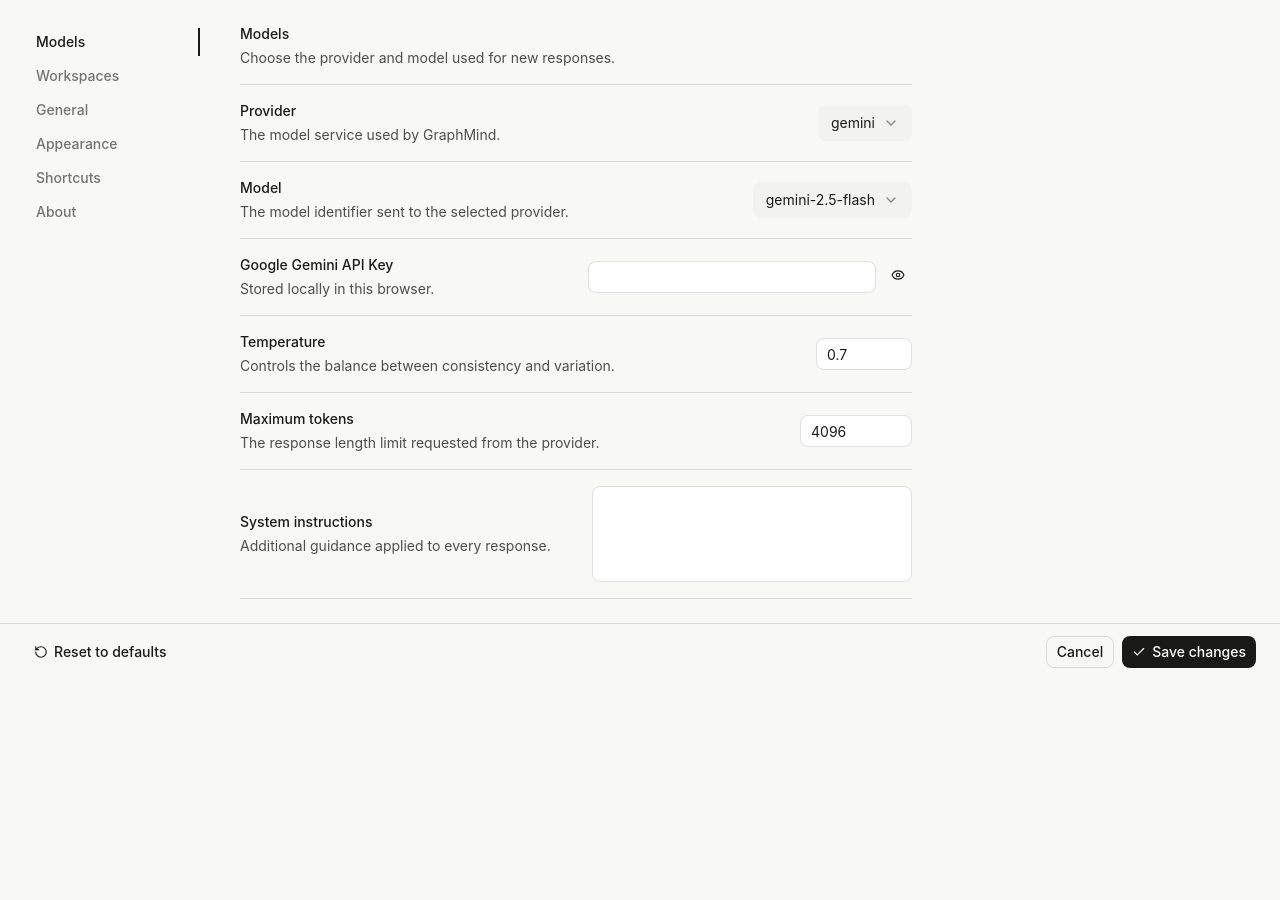
Test: LSI-045 destructive-action boundaries › explains that export never includes credentials or internal storage
Click the tab "Workspaces" at (112, 76), box [27,61,197,91]
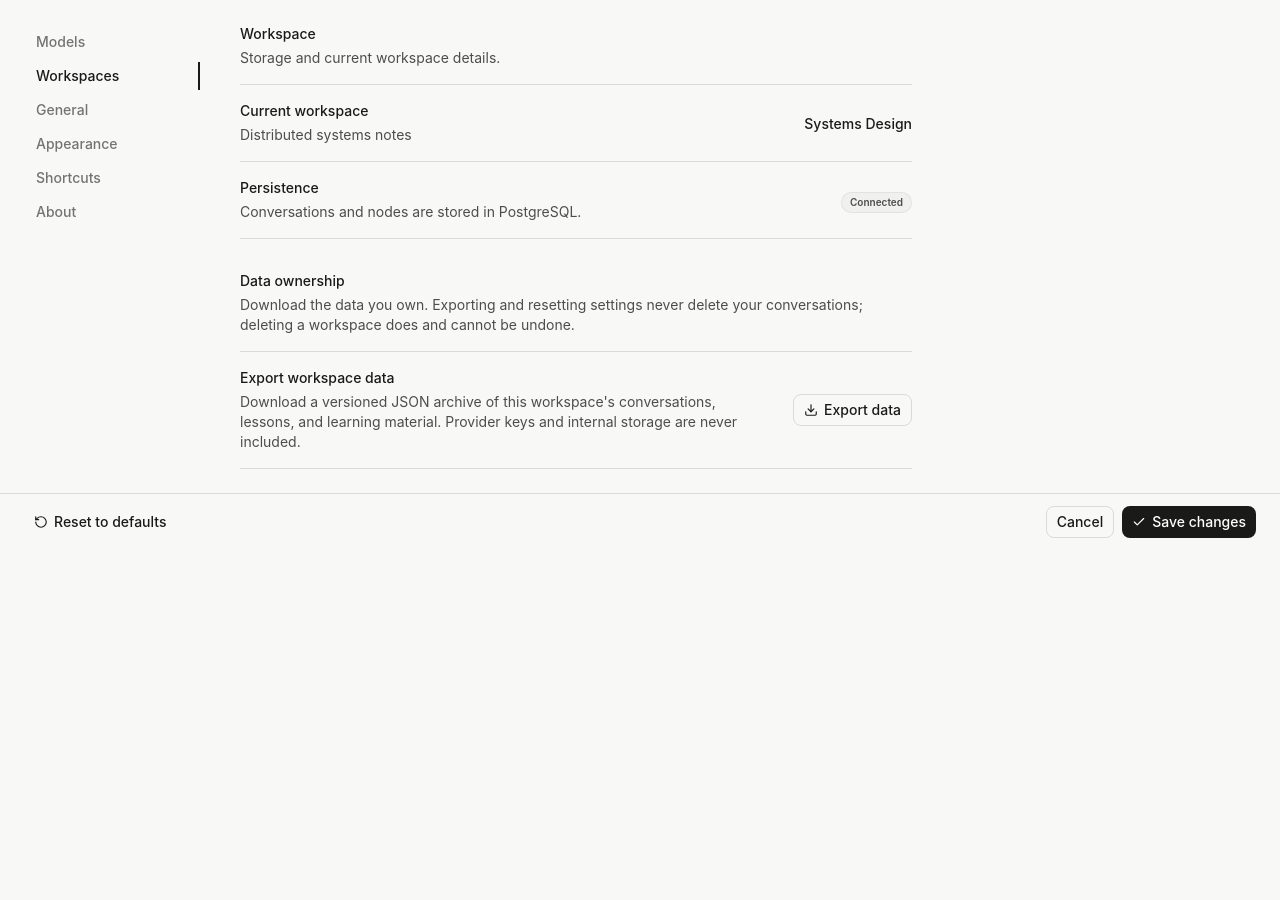
Check: the text "provider keys and internal storage are never included" is shown, box [240,393,737,450]
